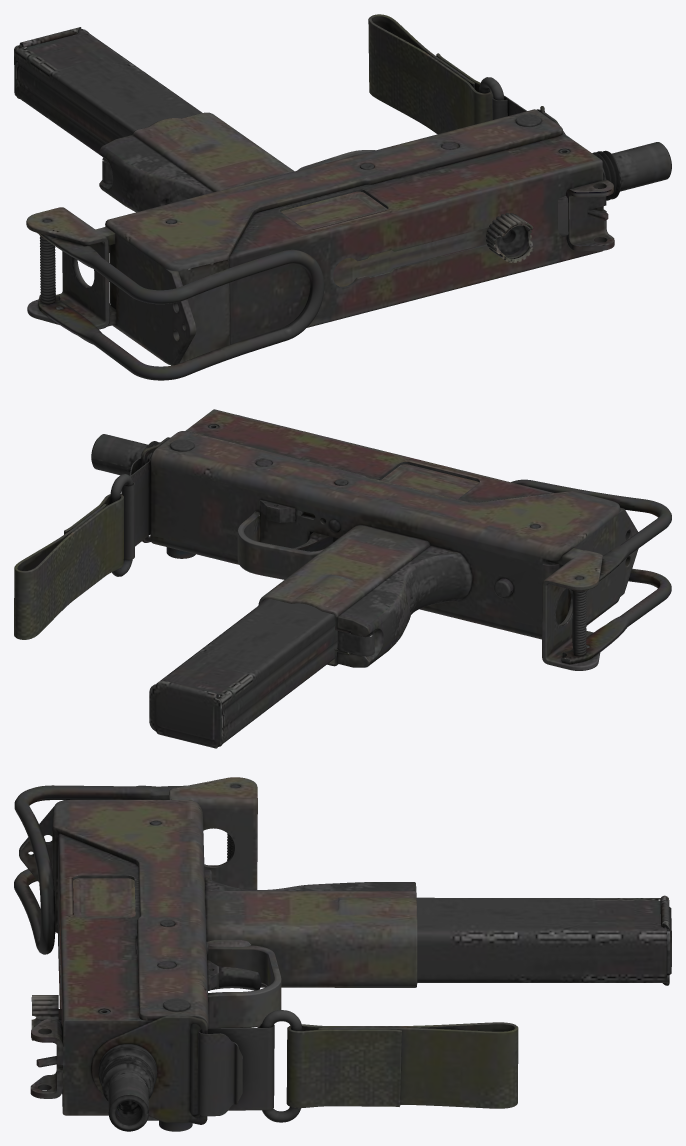
The model's file is w_mac10.glb.
3 renders of one model, top to bottom at view 1: azimuth 30°, elevation 25°; view 2: azimuth 150°, elevation 25°; view 3: azimuth 270°, elevation 25°, orthographic. The views are drawn at different scales.
Visible parts, largest first — view 1: w_mac10; view 2: w_mac10; view 3: w_mac10.
Part boxes in pixels (<box>): w_mac10: <box>14,14,671,380</box>; w_mac10: <box>14,409,671,748</box>; w_mac10: <box>14,777,671,1131</box>.
Size of the model in its own units: 0.4073 by 0.0776 by 0.3829.
1 material, 1 textured.
